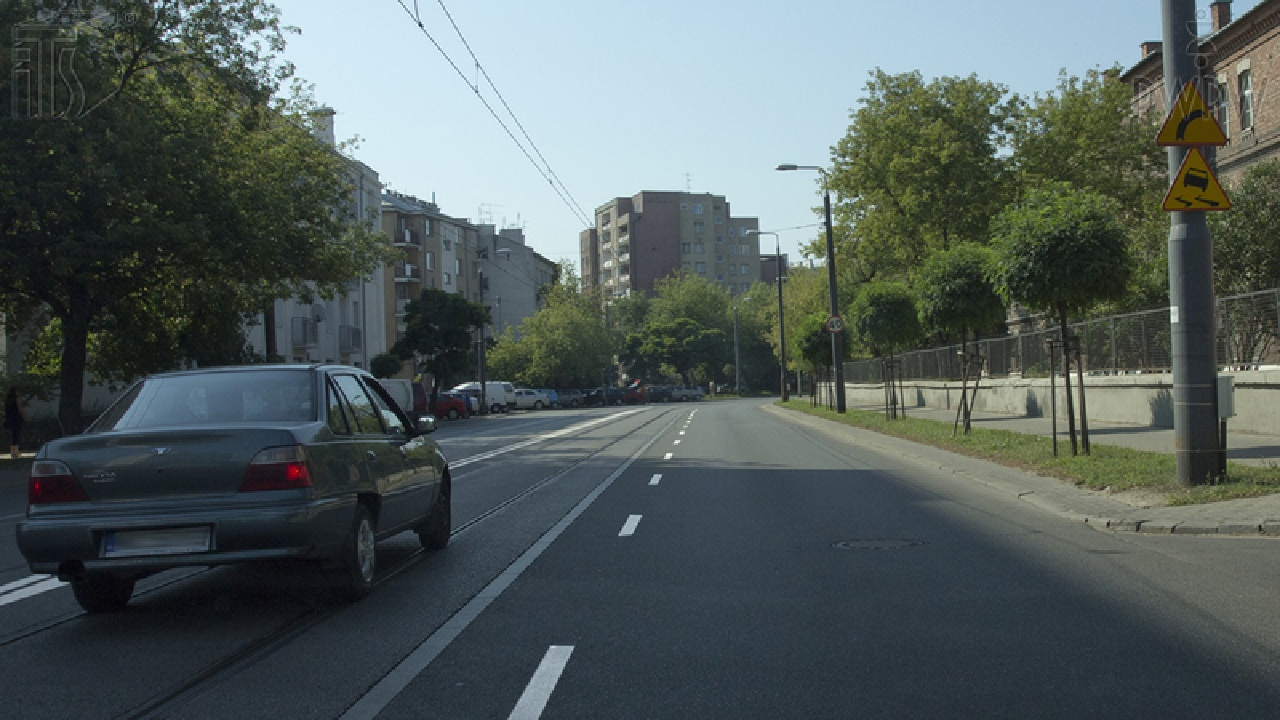A1: (1156, 81, 1228, 146)
A15: (1162, 147, 1233, 211)
